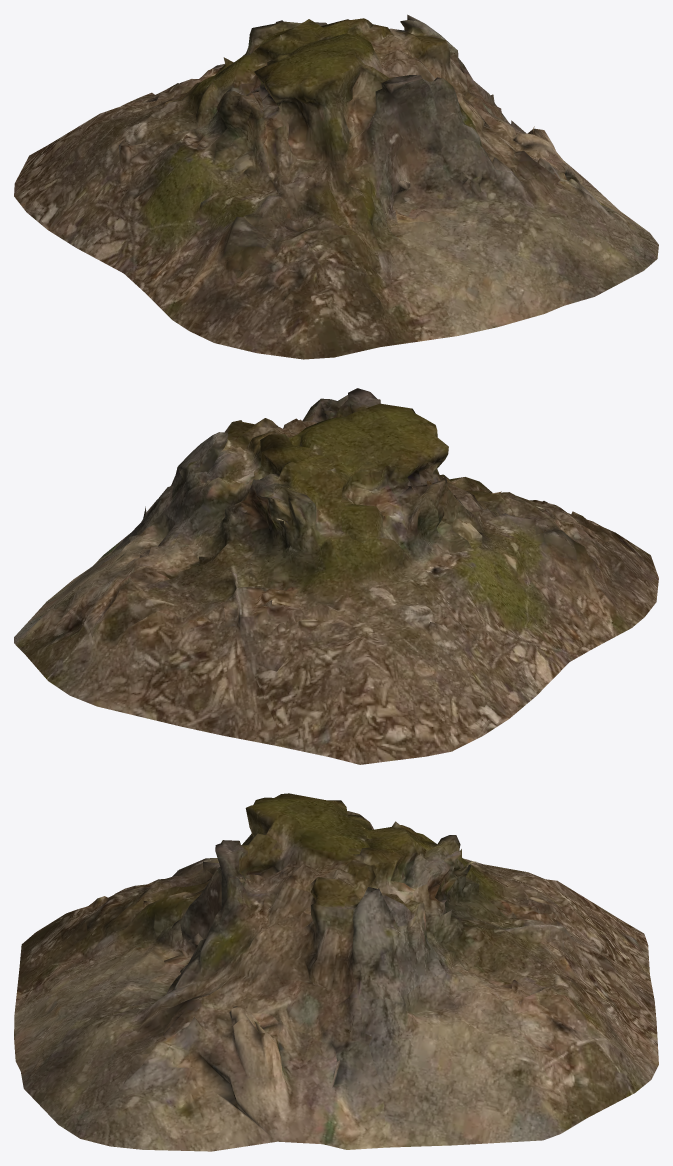
The model's file is tree_stump_01_1k_lo.glb.
3 views of the same model, one above another, from view 1: azimuth 30°, elevation 25°; view 2: azimuth 150°, elevation 25°; view 3: azimuth 270°, elevation 25° (orthographic). The views are drawn at different scales.
Visible parts, largest first — view 1: tree_stump_01; view 2: tree_stump_01; view 3: tree_stump_01.
Boxes of the visible parts, x1,y1,x2,y2 form: tree_stump_01: [14, 14, 658, 359]; tree_stump_01: [14, 388, 658, 764]; tree_stump_01: [14, 793, 658, 1151].
Size of the model in its own units: 1.43 by 0.57 by 1.59.
Materials: 1 (1 with a texture image).
